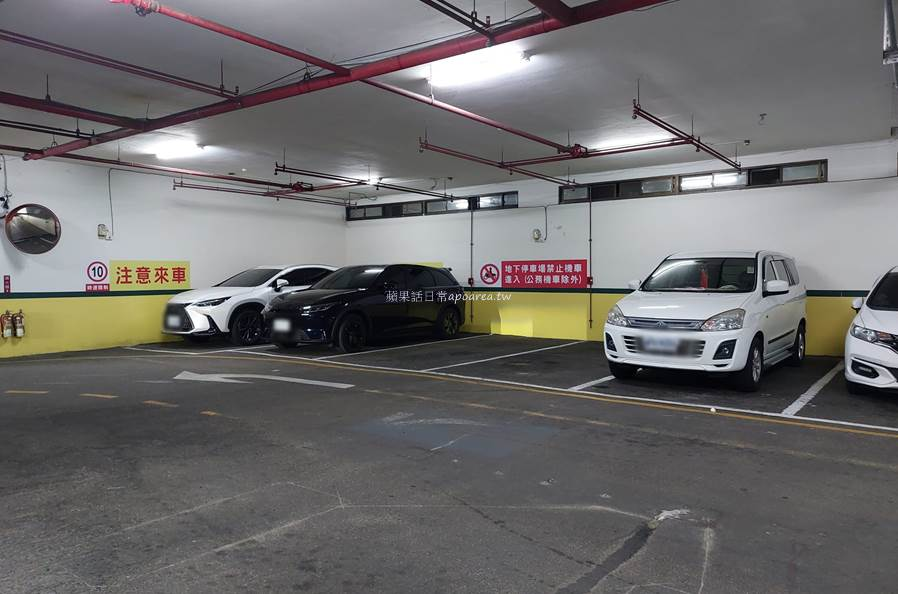car: (599, 244, 815, 386), (260, 263, 469, 356), (154, 260, 316, 338), (840, 259, 898, 409)
